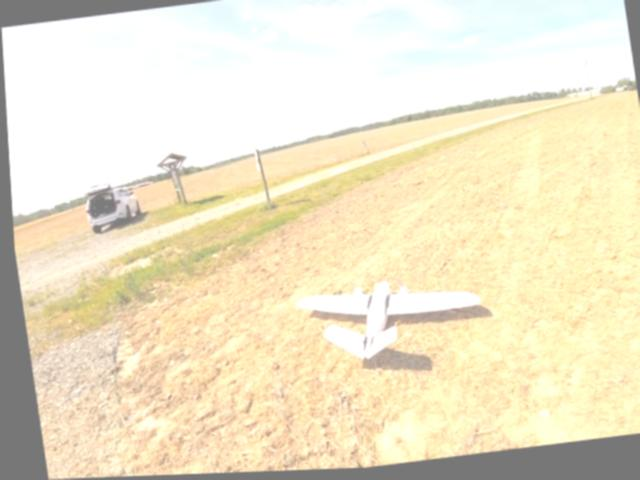plane: (289, 269, 481, 367)
